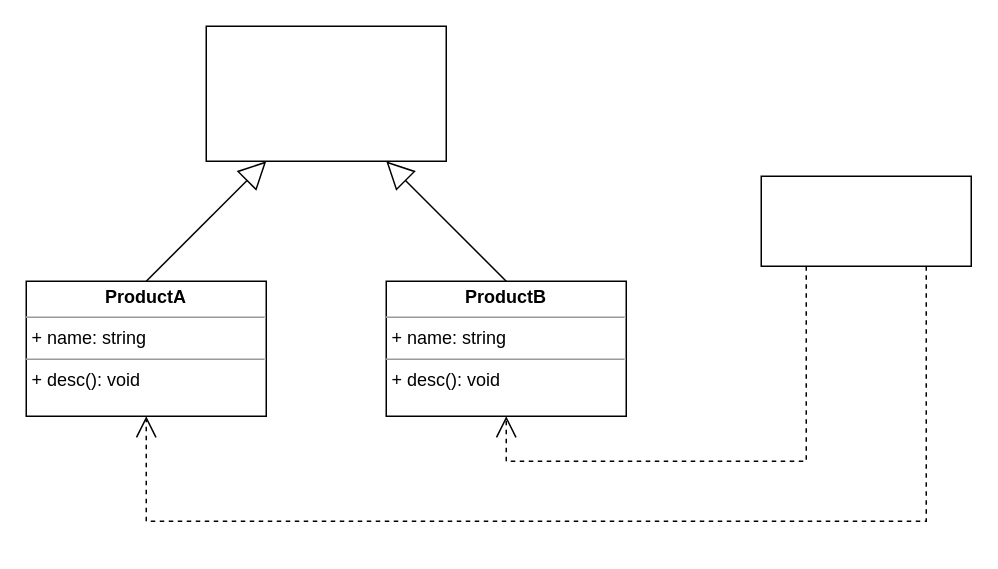
This 998x569 diagram has some shape labels left out. The shapes that lost their labels are listed below. From the top down, each one's centre as x and y in pixels, then its label:
At [325,93]: "Product + name: string + desc(): void".
At [865,220]: "Factory + create(name): Product".
